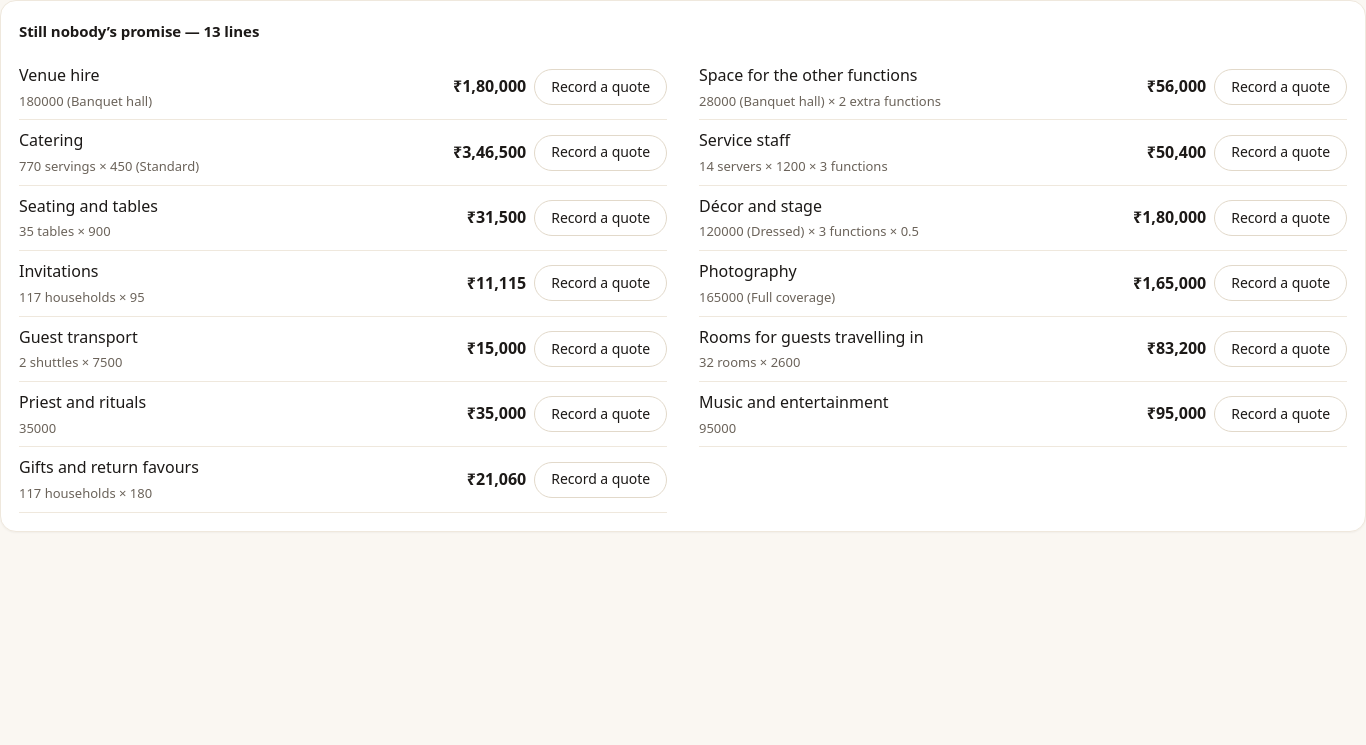
Test: VendorsView › fills the form from what the assistant read, and names the inclusions
The image size is (1366, 745).
Click the button "Record a quote" in the row of "180000 (Banquet hall)" at (601, 87), box [534, 69, 667, 105]
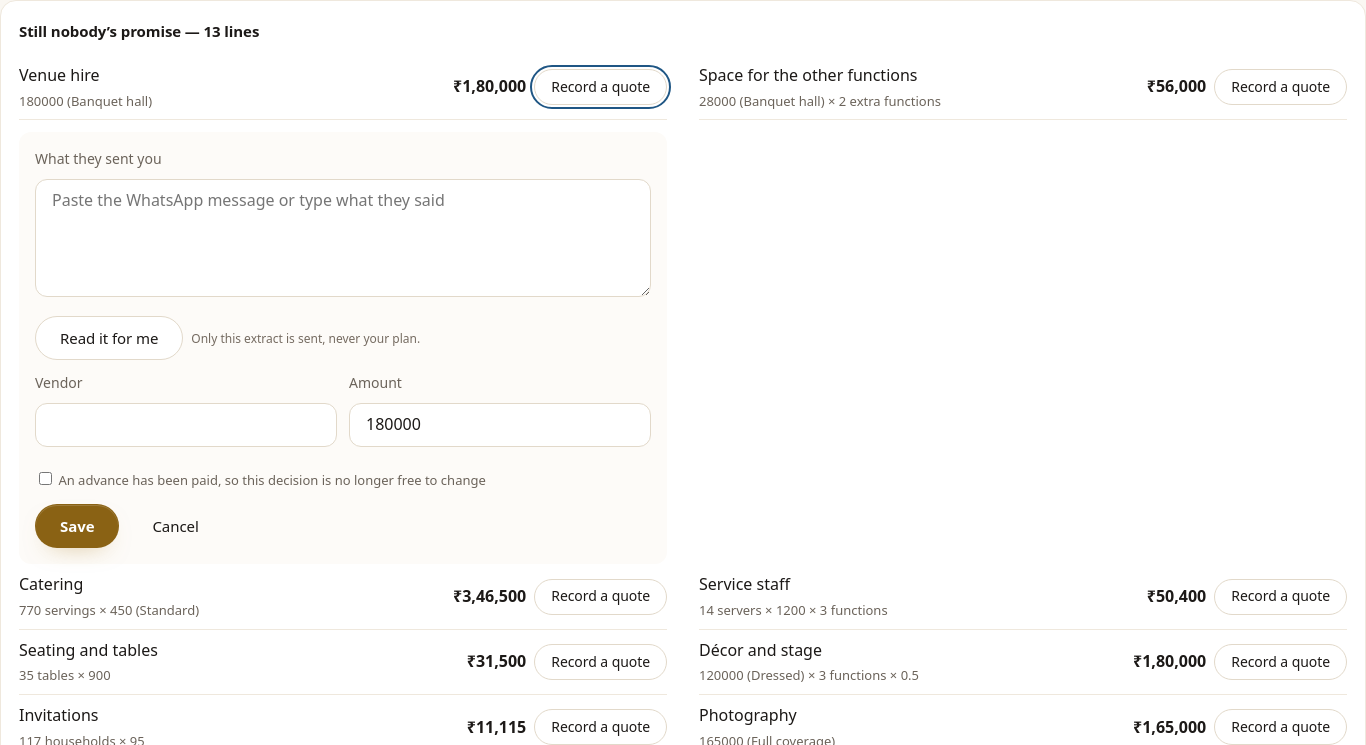
Type "Full day hire, 1,65,000 all in." into the text box labelled "What they sent you" at (343, 238), box [35, 179, 651, 297]
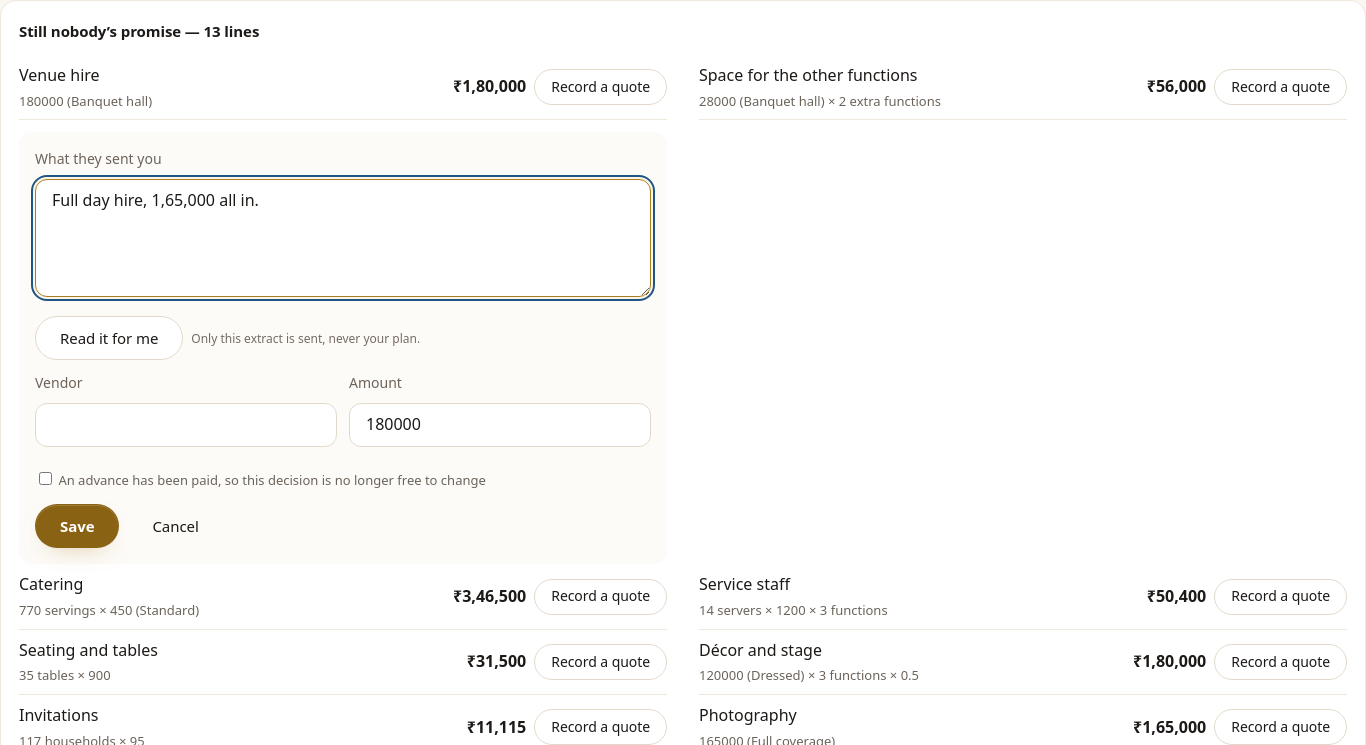
Click the button "Read it for me" at (109, 338), box [35, 316, 183, 360]
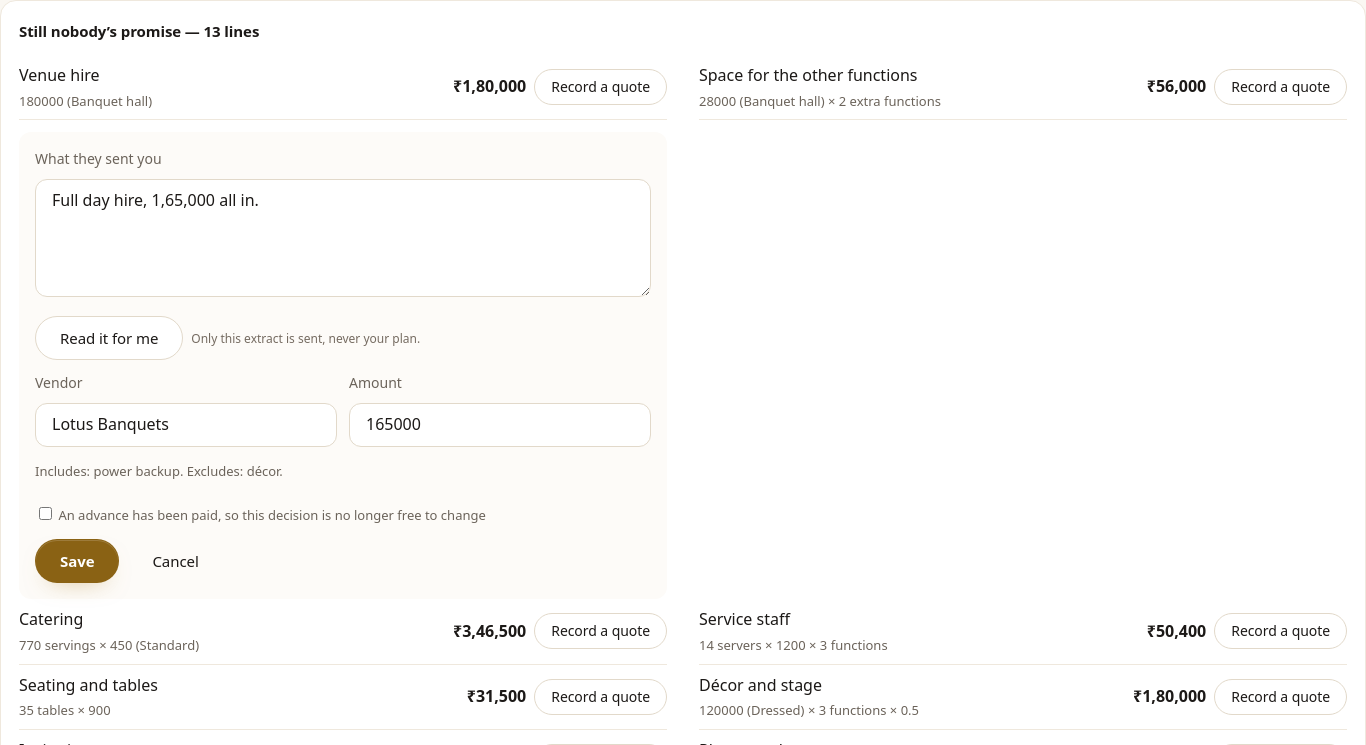
Expected: the field showing "Lotus Banquets" is shown, [35, 403, 337, 447]
Expected: the number field showing "165000" is shown, [349, 403, 651, 447]
Expected: the text "Includes: power backup. Excludes: décor." is shown, [35, 462, 283, 480]
